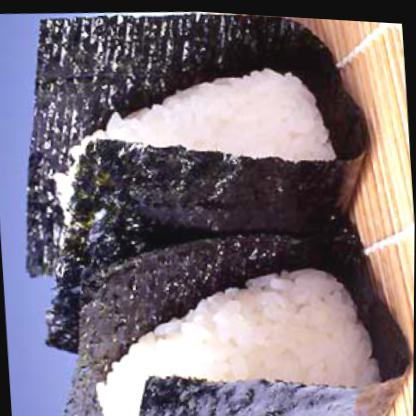rice roll: (31, 38, 351, 276), (79, 249, 394, 415)
